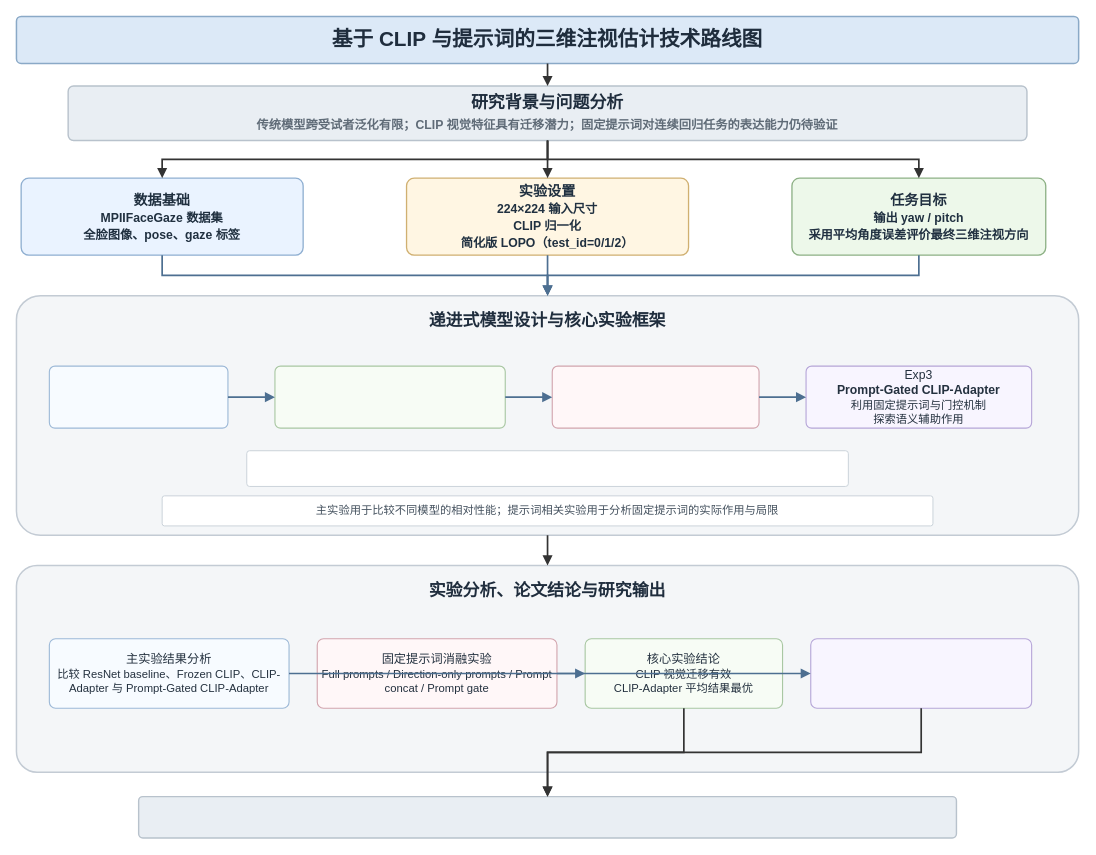
Image size: 1096x855. Some labels were removed from this diagram. The shapes that lost their labels are listed below. From the top down, each one's centre as x and y in pixels, then its label:
the point at 138,396: Exp1 ResNet baseline 构建传统视觉基线
the point at 389,396: Exp2-A Frozen CLIP image encoder + MLP 验证 CLIP 视觉特征迁移能力
the point at 655,396: Exp2-B CLIP-Adapter 引入轻量特征适配模块 增强任务适配能力
the point at 547,468: 统一训练设置：15 个 epoch · Adam 优化器 · L1 损失 · 相同数据划分
the point at 921,673: 论文最终结论与展望 固定提示词可提供一定语义辅助 但对连续回归任务仍存在明显局限
the point at 547,817: 研究逻辑：数据与评估设置 → 递进式模型设计 → 主实验与消融分析 → 论文结论与未来工作
